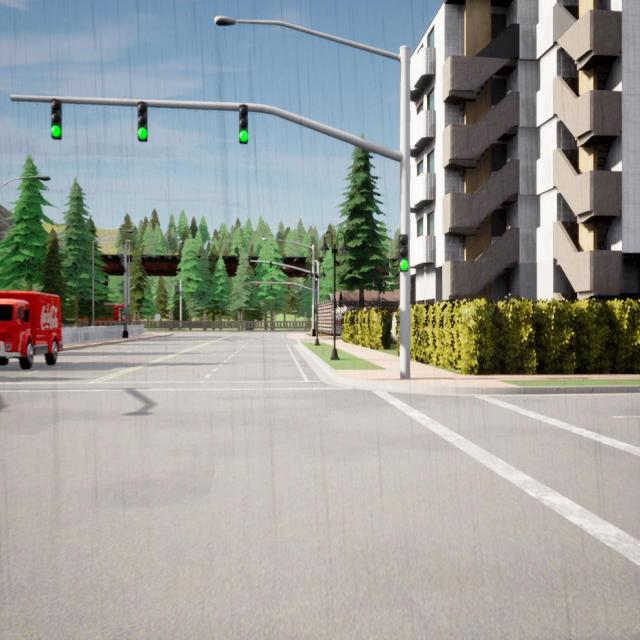Traffic_Signs: (155, 313, 161, 322)
Vehicle: (0, 291, 62, 368), (93, 304, 132, 326)
traffic_light: (51, 99, 62, 140), (137, 102, 148, 142), (398, 234, 409, 272), (239, 105, 248, 144), (120, 254, 124, 266), (269, 260, 272, 272), (287, 282, 290, 292), (256, 282, 258, 290), (270, 282, 272, 290)
